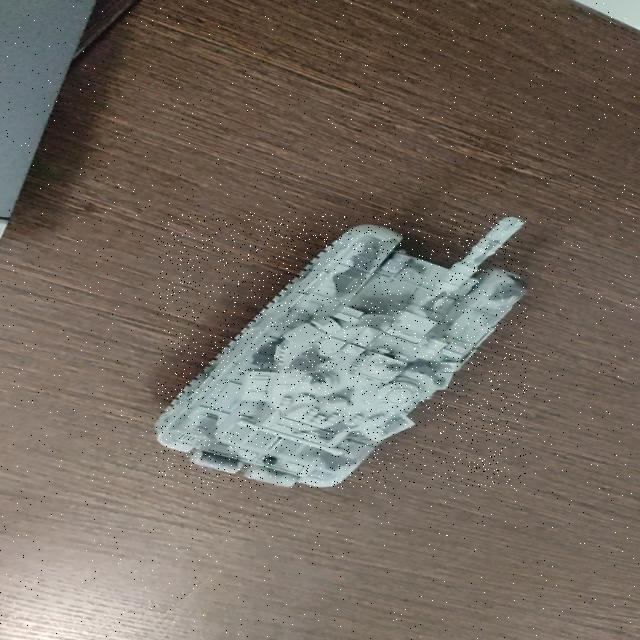MIL_MBT: (156, 214, 527, 489)
